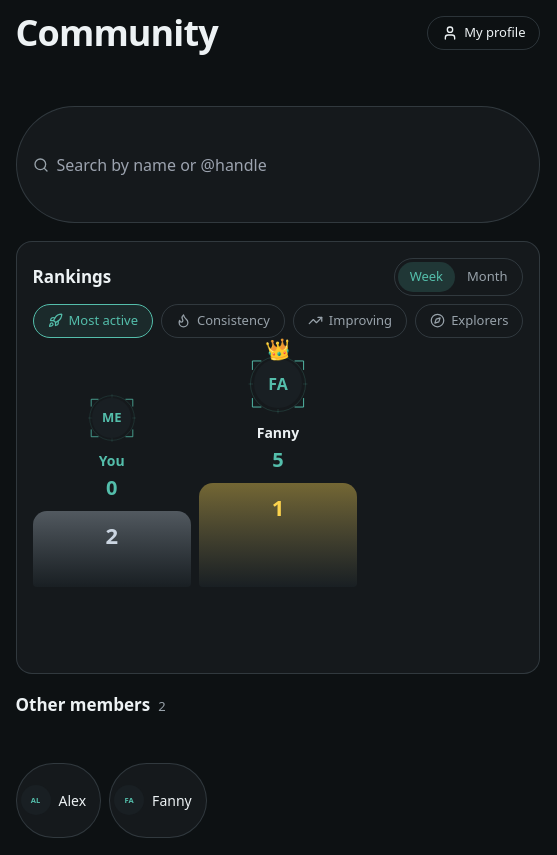
Test: Community discovery › keeps you on the board with a zero score and pages search results
Check: the list named "Podium" shows "You", box [86,392,138,503]
Step 1. Type "a" into the search field → point(290, 165), box [56,153,524,177]
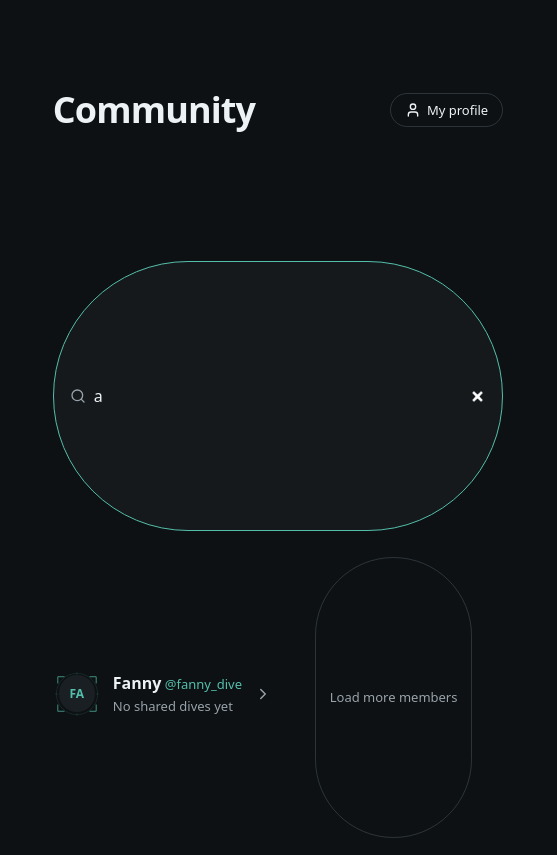
Check: the link "FA Fanny @fanny_dive No shared dives yet" is shown, box [53,670,272,718]
Step 2. Click the button "Load more members" → point(394, 698), box [315,557,472,838]
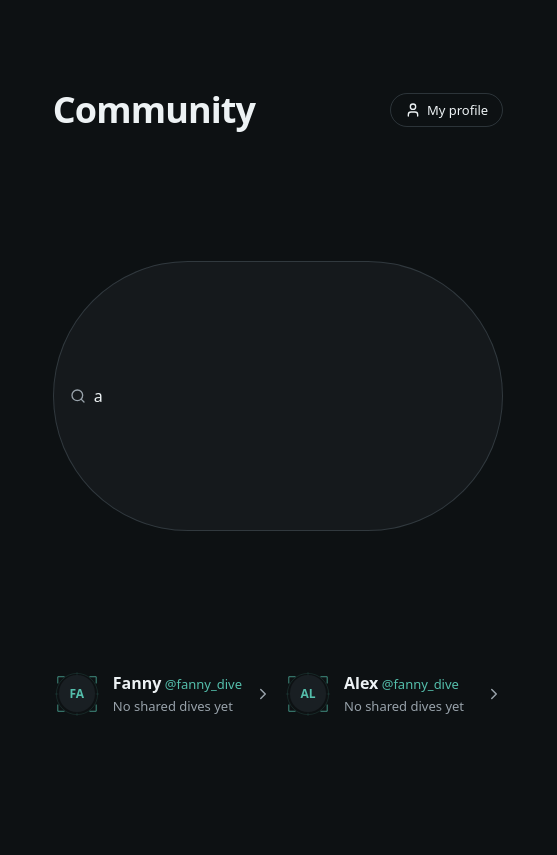
Check: the link "AL Alex @fanny_dive No shared dives yet" is shown, box [284,670,503,718]
